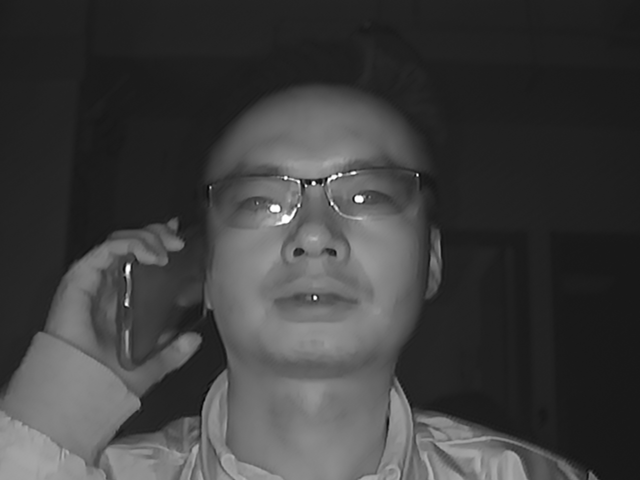hand: (64, 217, 181, 391)
